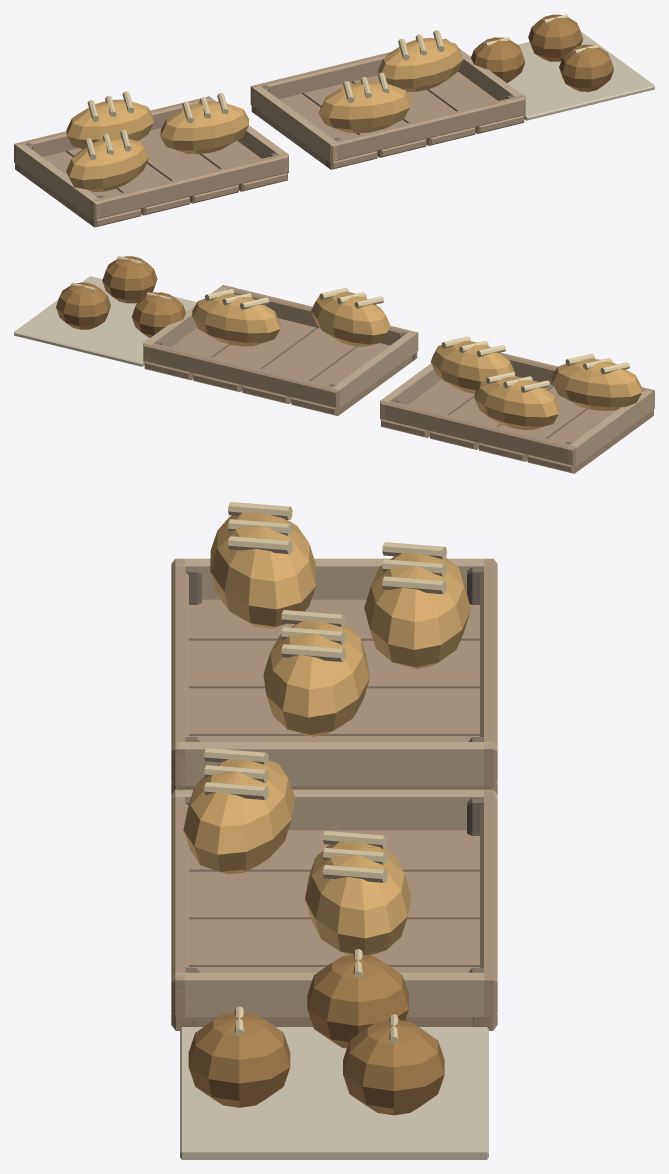
File: Bread.fbx
3 renders of one model, top to bottom at view 1: azimuth 30°, elevation 25°; view 2: azimuth 150°, elevation 25°; view 3: azimuth 270°, elevation 25°, orthographic. The views are drawn at different scales.
Visible parts, largest first — view 1: Body__Timber.001, Body__Bread, Body__TimberLight.001, Body__Crust, Body__FabricCream.001, Body__Flour; view 2: Body__Timber.001, Body__Bread, Body__TimberLight.001, Body__Crust, Body__FabricCream.001, Body__Flour; view 3: Body__Timber.001, Body__Bread, Body__TimberLight.001, Body__FabricCream.001, Body__Crust, Body__Flour, Body__TimberDark.001.
Boxes of the visible parts, bbox=[...] form: Body__Timber.001: bbox=[14, 38, 525, 227]; Body__Bread: bbox=[66, 38, 463, 191]; Body__TimberLight.001: bbox=[14, 39, 522, 219]; Body__Crust: bbox=[471, 14, 613, 91]; Body__FabricCream.001: bbox=[470, 31, 654, 120]; Body__Flour: bbox=[85, 14, 599, 160]; Body__Timber.001: bbox=[143, 285, 654, 473]; Body__Bread: bbox=[192, 292, 642, 429]; Body__TimberLight.001: bbox=[144, 285, 654, 466]; Body__Crust: bbox=[56, 256, 185, 337]; Body__FabricCream.001: bbox=[14, 276, 196, 366]; Body__Flour: bbox=[71, 256, 629, 392]; Body__Timber.001: bbox=[171, 558, 497, 1030]; Body__Bread: bbox=[183, 512, 470, 955]; Body__TimberLight.001: bbox=[171, 558, 497, 1016]; Body__FabricCream.001: bbox=[180, 1027, 488, 1159]; Body__Crust: bbox=[188, 954, 444, 1115]; Body__Flour: bbox=[204, 502, 446, 1042]; Body__TimberDark.001: bbox=[179, 566, 489, 1030].
Size of the model in its own units: 2.21 by 0.2349 by 0.55.
